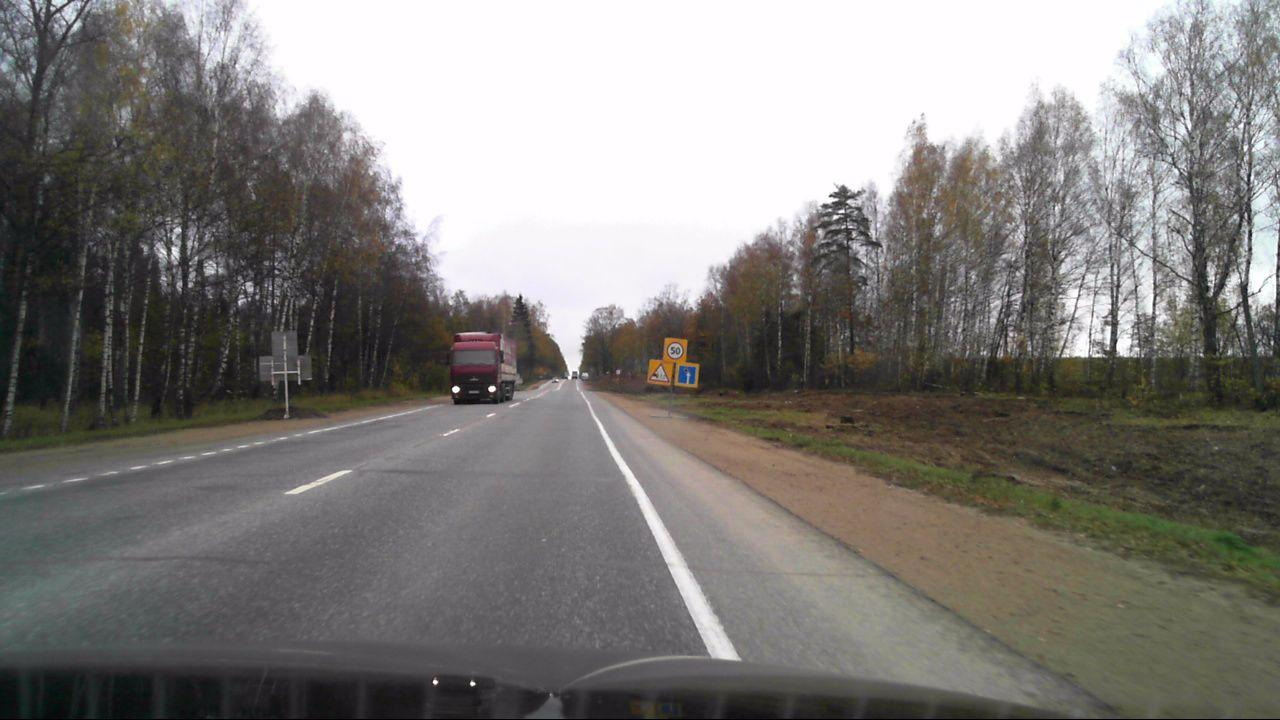1_18: (649, 362, 670, 383)
2_7: (677, 364, 697, 386)
3_24: (666, 340, 685, 360)
